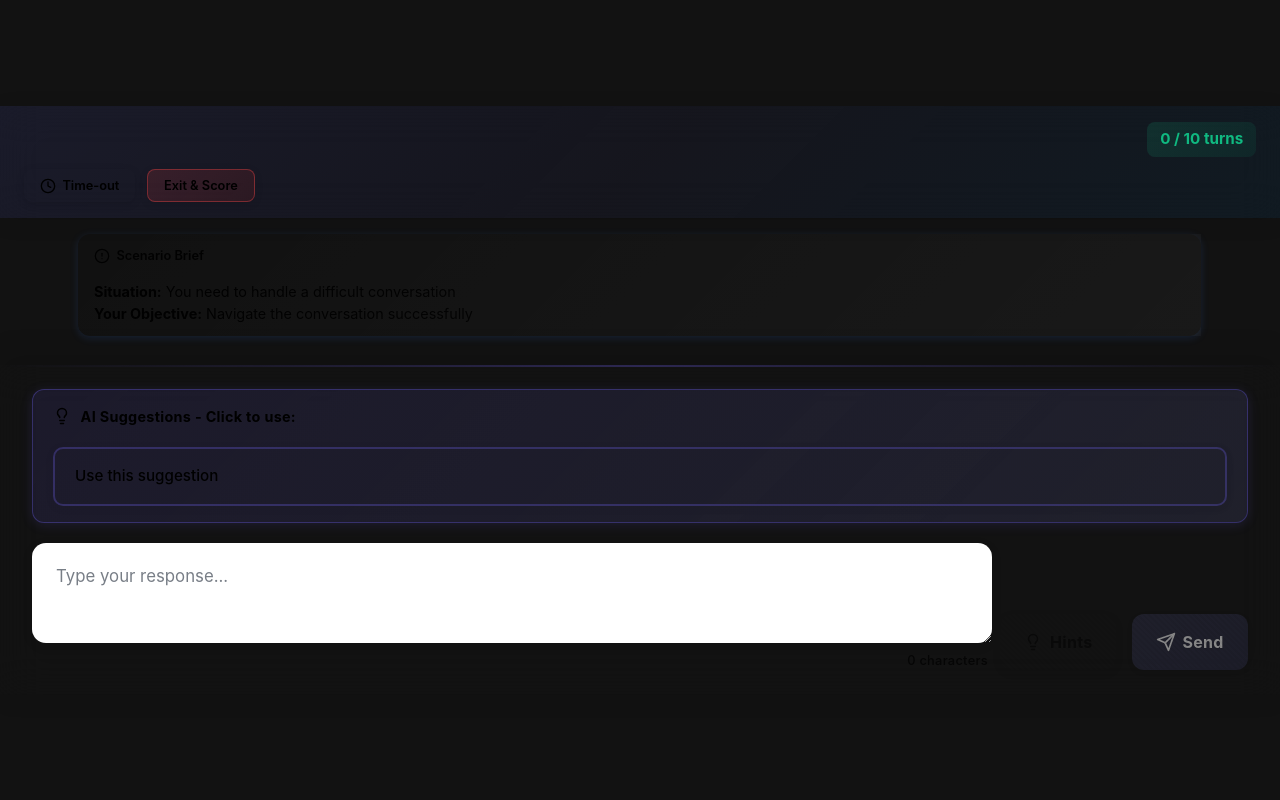
Test: ChatInterface › Suggestions Functionality › fills input with suggestion when clicked
Click the list item "Use this suggestion". click: {"x": 147, "y": 476}
box: [53,447,1227,506]
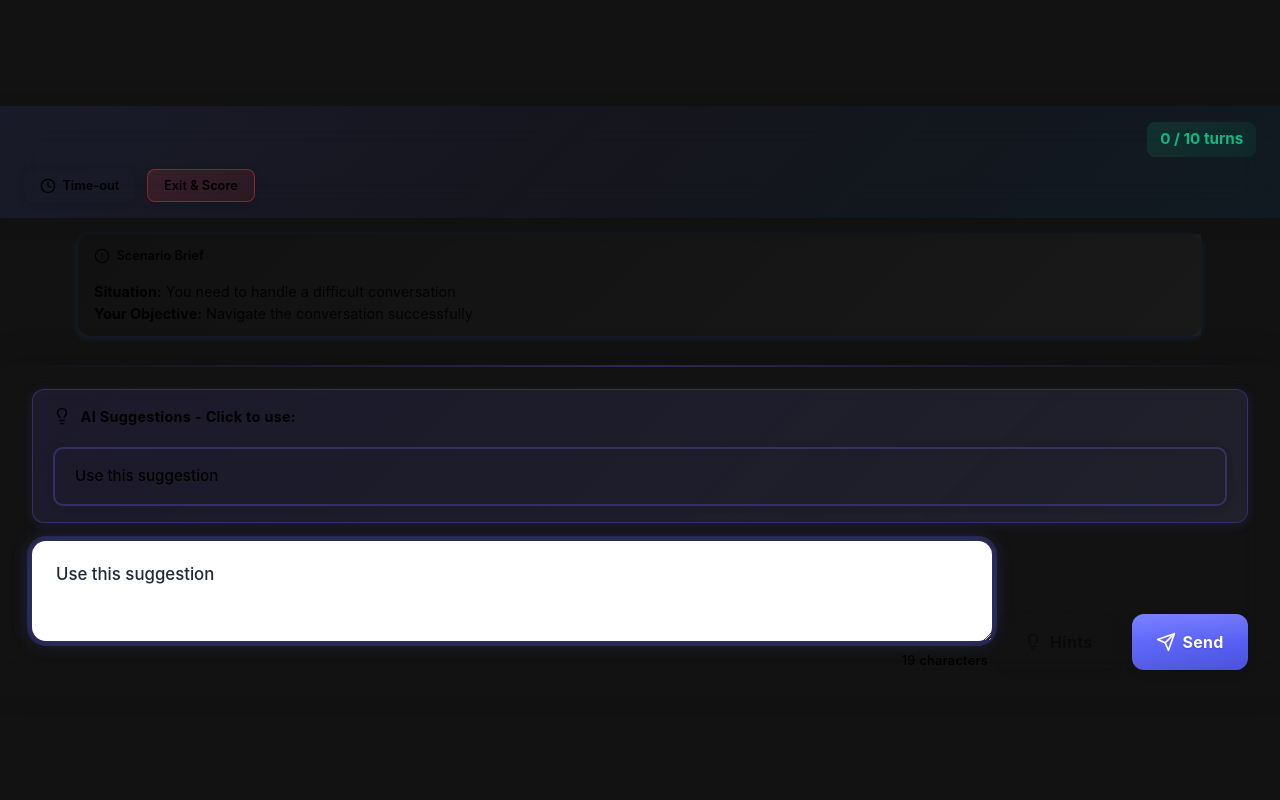
Result: the text box with placeholder "Type your response..." holds "Use this suggestion" at [32,541,992,641]
